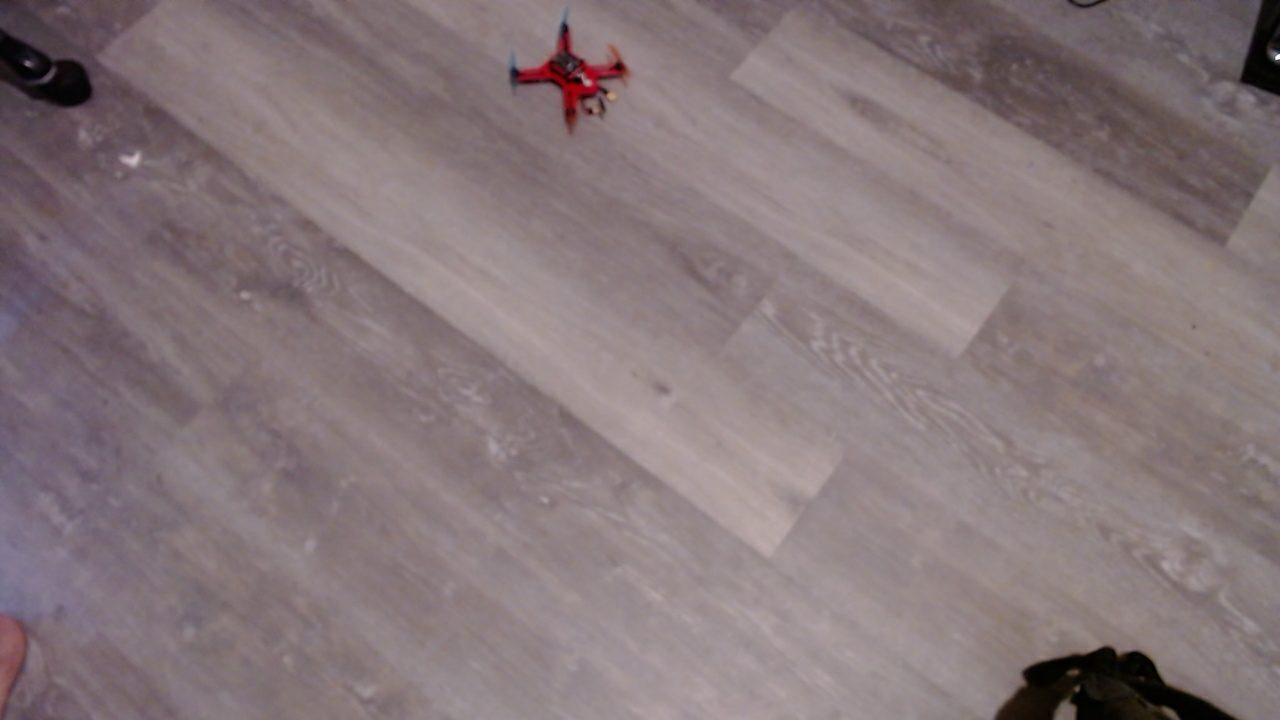crazyflie: (507, 15, 654, 145)
